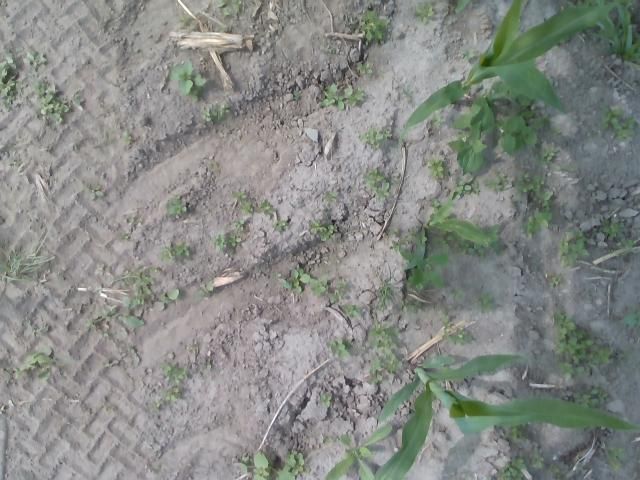Maize: (396, 0, 624, 151), (371, 353, 640, 480), (402, 193, 488, 271), (450, 0, 473, 10)
Weeds: (448, 80, 547, 174), (551, 308, 613, 379), (324, 424, 392, 480), (368, 320, 403, 386), (398, 246, 448, 292), (238, 449, 310, 480), (6, 346, 56, 382), (168, 59, 206, 103), (512, 171, 554, 210), (32, 80, 69, 124), (120, 265, 156, 308), (0, 53, 27, 109), (346, 10, 389, 42), (599, 105, 636, 141), (533, 144, 576, 173), (318, 83, 364, 110), (557, 230, 589, 268), (440, 310, 472, 346), (484, 456, 528, 480), (362, 168, 392, 203), (520, 208, 553, 238), (572, 383, 608, 410), (452, 231, 484, 260), (325, 337, 365, 358), (102, 308, 144, 328), (601, 441, 626, 472), (278, 269, 310, 293), (359, 125, 392, 148), (160, 360, 187, 385), (424, 228, 452, 252), (158, 243, 190, 264), (212, 234, 242, 256), (452, 175, 479, 199), (608, 237, 634, 260), (484, 169, 508, 192), (154, 288, 179, 310), (309, 220, 335, 241), (200, 104, 230, 122), (426, 156, 450, 178), (485, 225, 503, 254), (164, 194, 187, 216), (377, 283, 395, 311), (597, 218, 623, 237), (619, 305, 640, 328), (475, 290, 495, 314), (215, 0, 242, 16), (412, 2, 433, 22), (24, 48, 46, 66), (330, 279, 346, 303), (401, 226, 420, 246), (310, 276, 328, 296), (528, 451, 545, 472), (503, 424, 524, 441), (160, 388, 182, 404), (400, 298, 422, 314), (178, 13, 196, 30), (84, 184, 105, 197), (355, 61, 373, 76), (258, 200, 274, 216), (549, 463, 564, 480), (195, 283, 214, 296), (27, 322, 47, 334), (342, 303, 359, 317), (547, 272, 564, 286), (430, 196, 442, 214), (322, 190, 338, 203), (120, 130, 134, 144), (231, 188, 246, 201), (546, 124, 562, 136), (450, 288, 464, 301), (70, 92, 82, 106), (460, 49, 474, 61), (274, 220, 290, 230), (320, 394, 332, 407), (84, 318, 98, 329), (232, 220, 244, 232), (240, 202, 252, 214), (432, 112, 442, 126), (151, 401, 163, 412), (322, 434, 332, 446), (401, 88, 412, 98), (389, 240, 399, 251), (622, 348, 631, 360), (126, 344, 136, 354), (292, 92, 301, 100), (202, 364, 212, 371), (103, 406, 114, 412), (104, 361, 112, 368), (121, 235, 130, 241), (218, 26, 226, 32), (12, 160, 18, 168), (392, 227, 398, 235), (103, 332, 110, 338), (209, 160, 216, 165), (236, 134, 242, 139), (131, 221, 137, 226), (327, 48, 332, 52)
